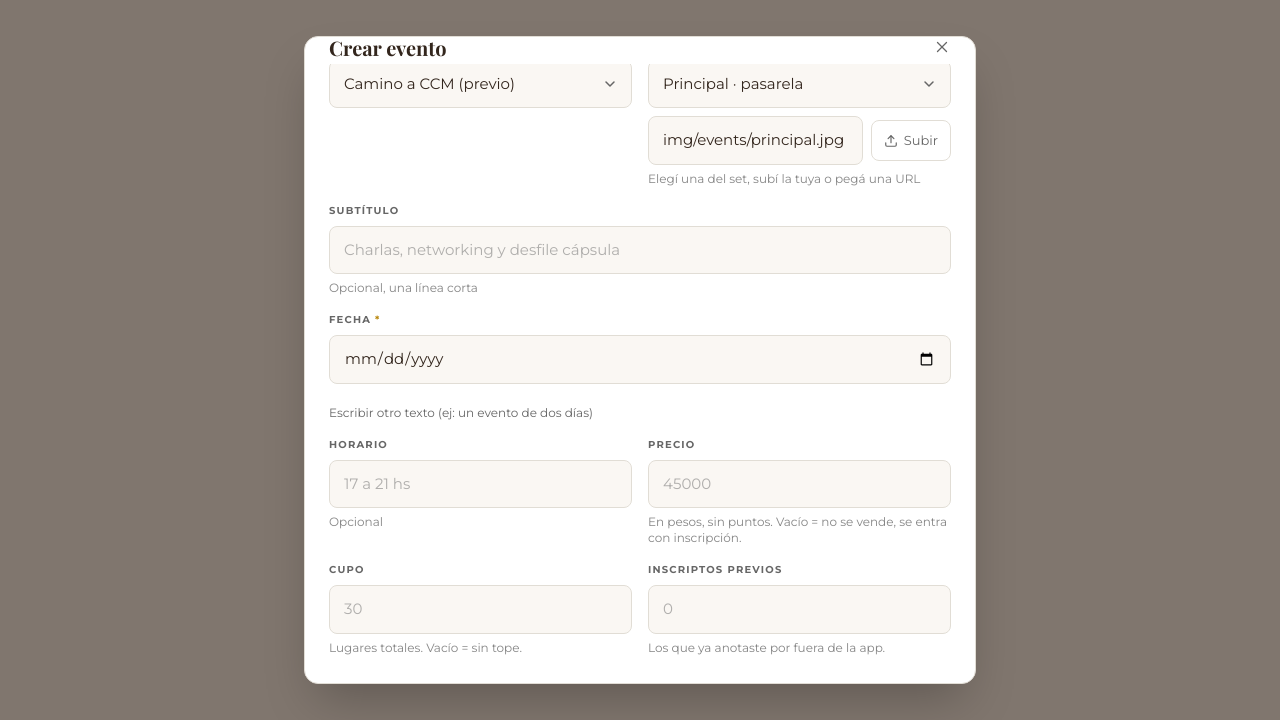
Test: la puerta de escape: eventos que no entran en una sola fecha › avisa si el texto propio nombra un día que no es el de la fecha
(page scrolled)
In the date field labelled "Fecha*": (640, 360) [329, 335, 951, 384], type "2026-08-21"
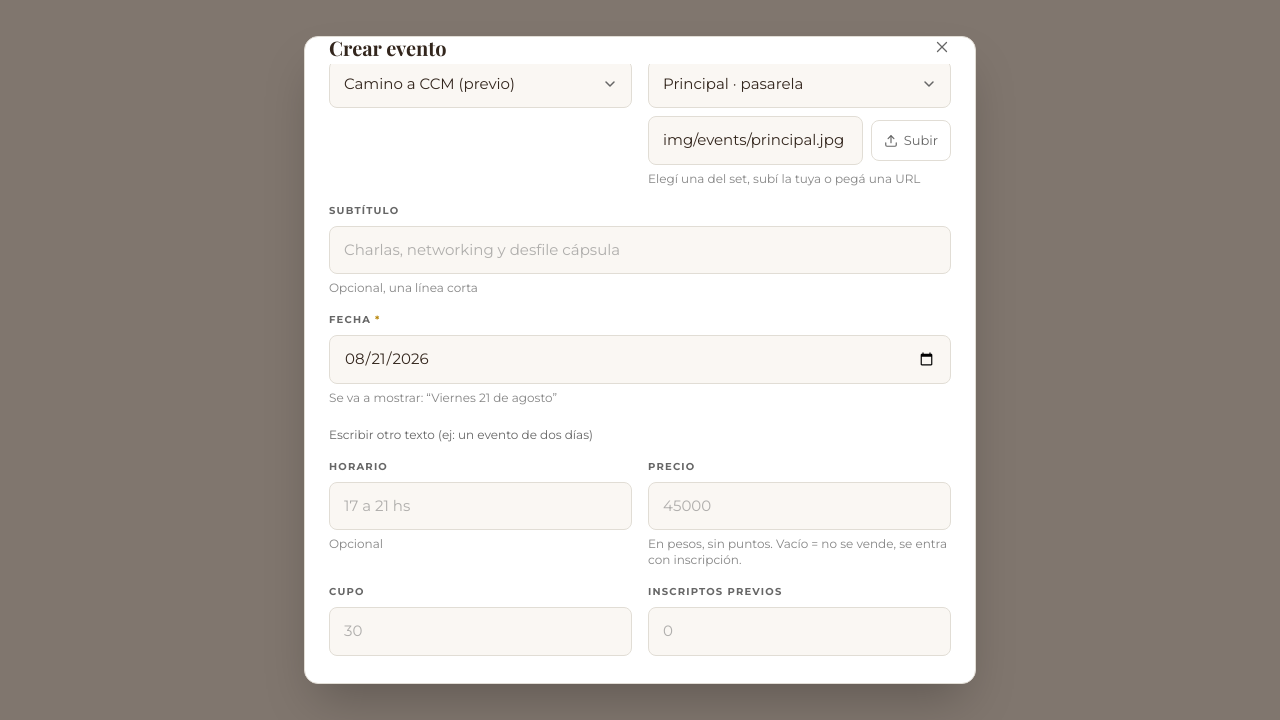
Click the button "Escribir otro texto (ej: un evento de dos días)": (461, 435) [329, 427, 593, 443]
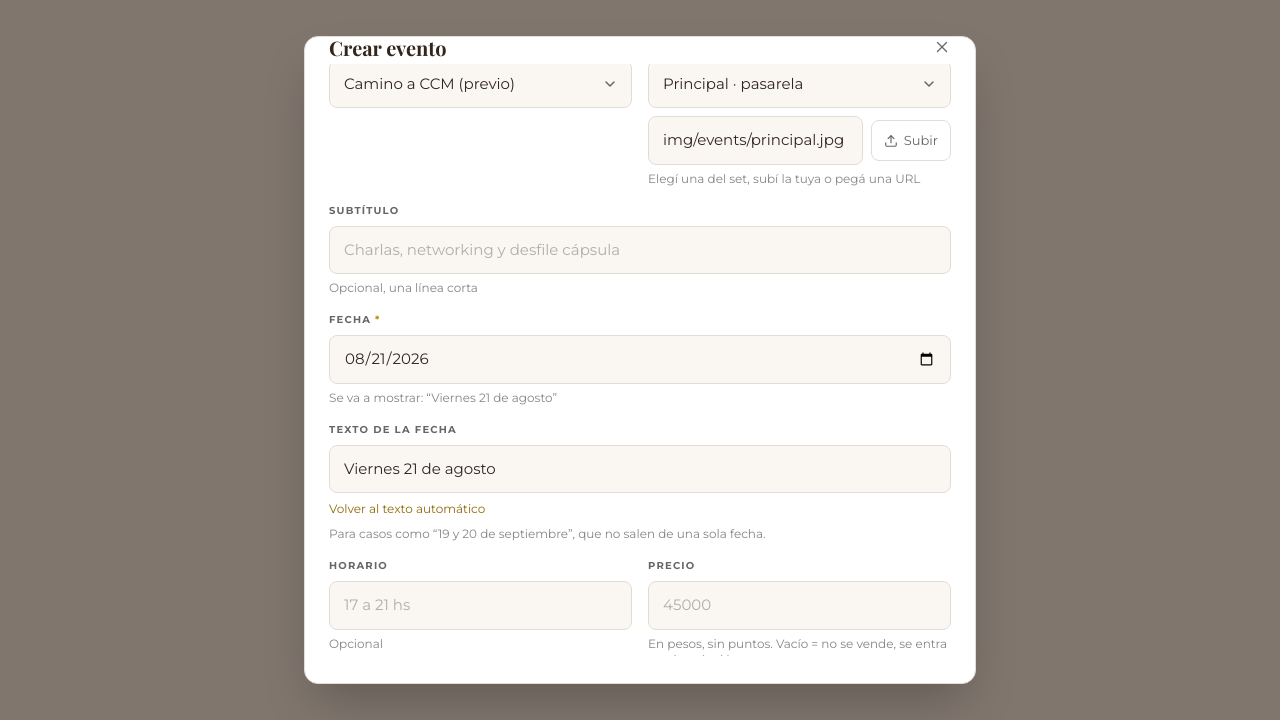
In the 3rd field: (640, 469) [329, 445, 951, 493], type "Jueves 21 de agosto"
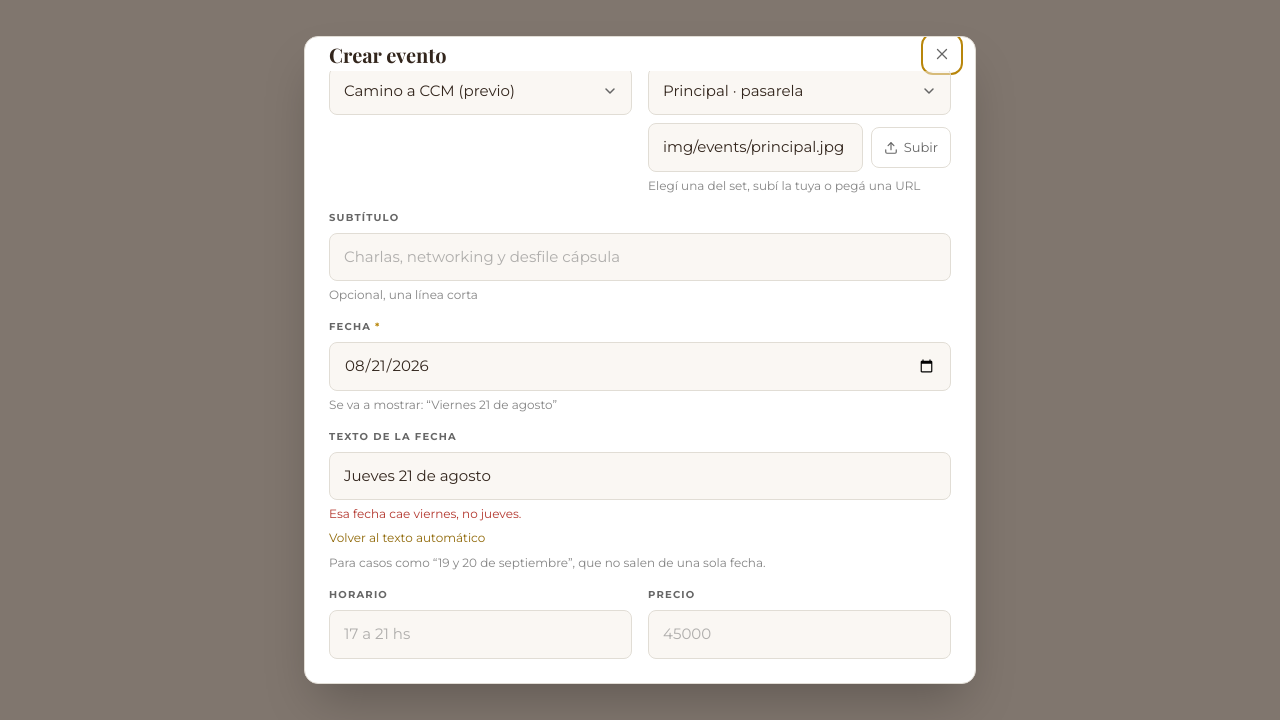
Expected: the text "Esa fecha cae viernes, no jueves." is shown, [329, 506, 521, 521]
